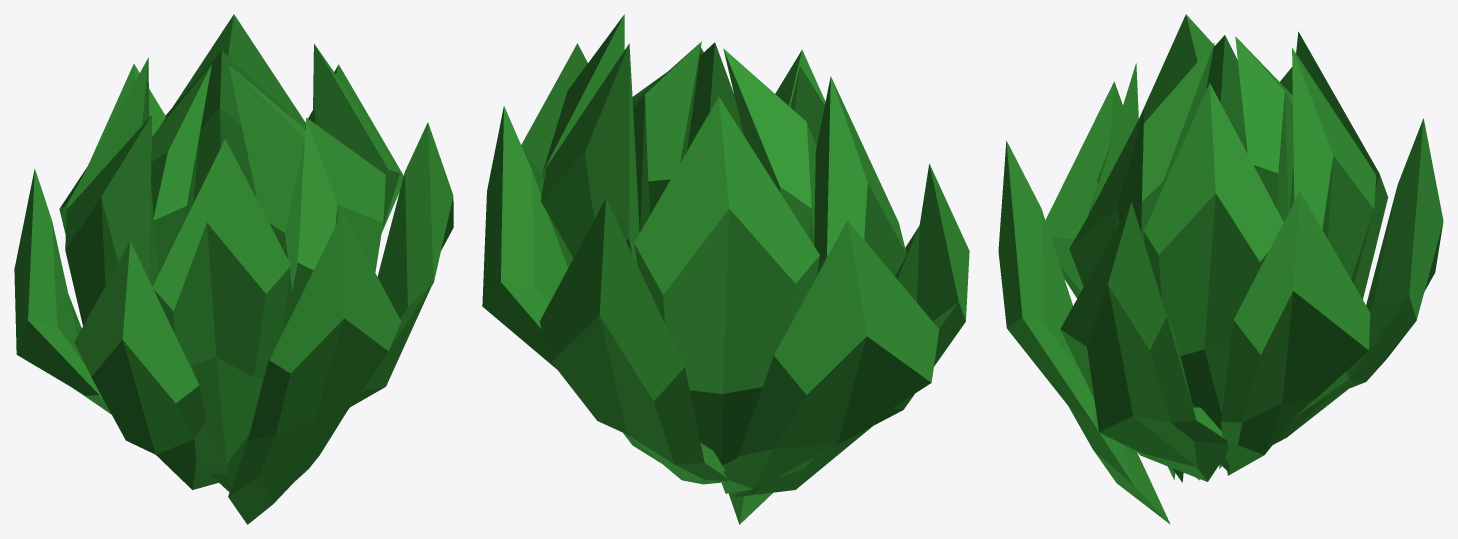
Rendered from Succulent.FBX.
3 views of the same model, side by side, from view 1: azimuth 30°, elevation 25°; view 2: azimuth 150°, elevation 25°; view 3: azimuth 270°, elevation 25° (orthographic). The views are drawn at different scales.
Parts seen in each view (by area): view 1: Object001; view 2: Object001; view 3: Object001.
Boxes of the visible parts, x1,y1,x2,y2 form: Object001: (14, 14, 453, 524); Object001: (482, 14, 969, 524); Object001: (998, 14, 1443, 524).
Bounding box in the file's own units: 58.71 × 64.79 × 52.27.
